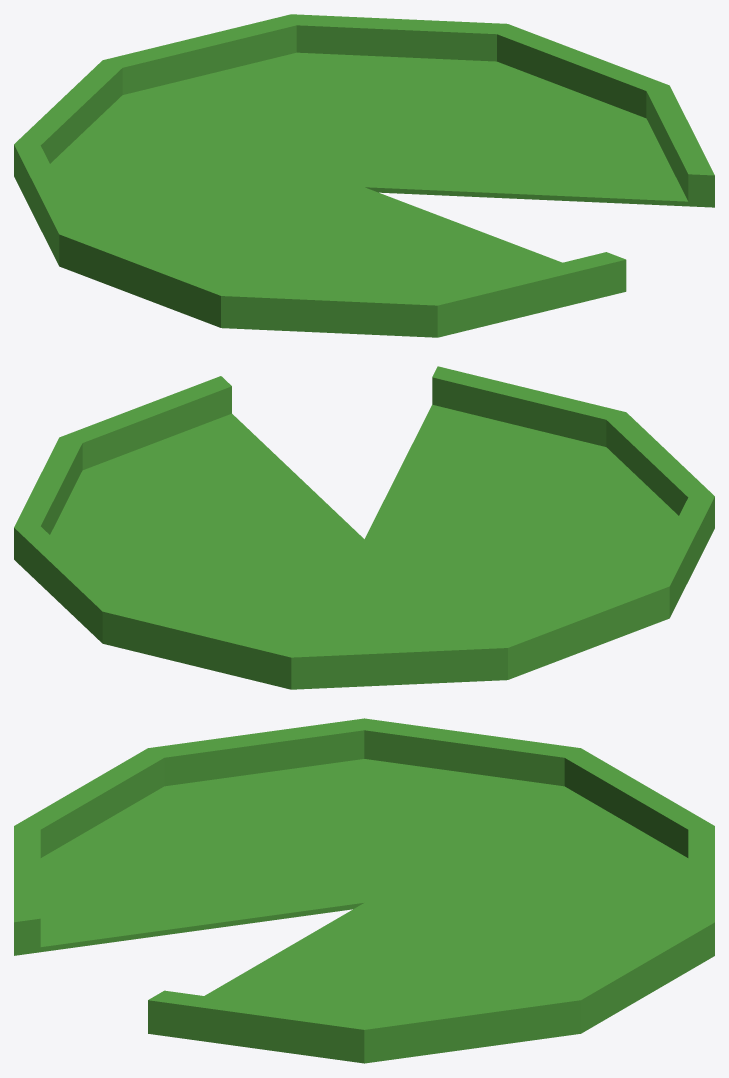
The model's file is 001_LilyPad_001.fbx.
The picture shows the model from 3 angles, top to bottom: view 1: azimuth 30°, elevation 25°; view 2: azimuth 150°, elevation 25°; view 3: azimuth 270°, elevation 25°; orthographic projection. The views are drawn at different scales.
Visible parts, largest first — view 1: pCylinder1; view 2: pCylinder1; view 3: pCylinder1.
Part boxes in pixels (x1,y1,x2,y2): pCylinder1: (14, 14, 714, 337); pCylinder1: (14, 366, 714, 689); pCylinder1: (14, 718, 714, 1063).
Size of the model in its own units: 2 by 0.1006 by 1.9.
